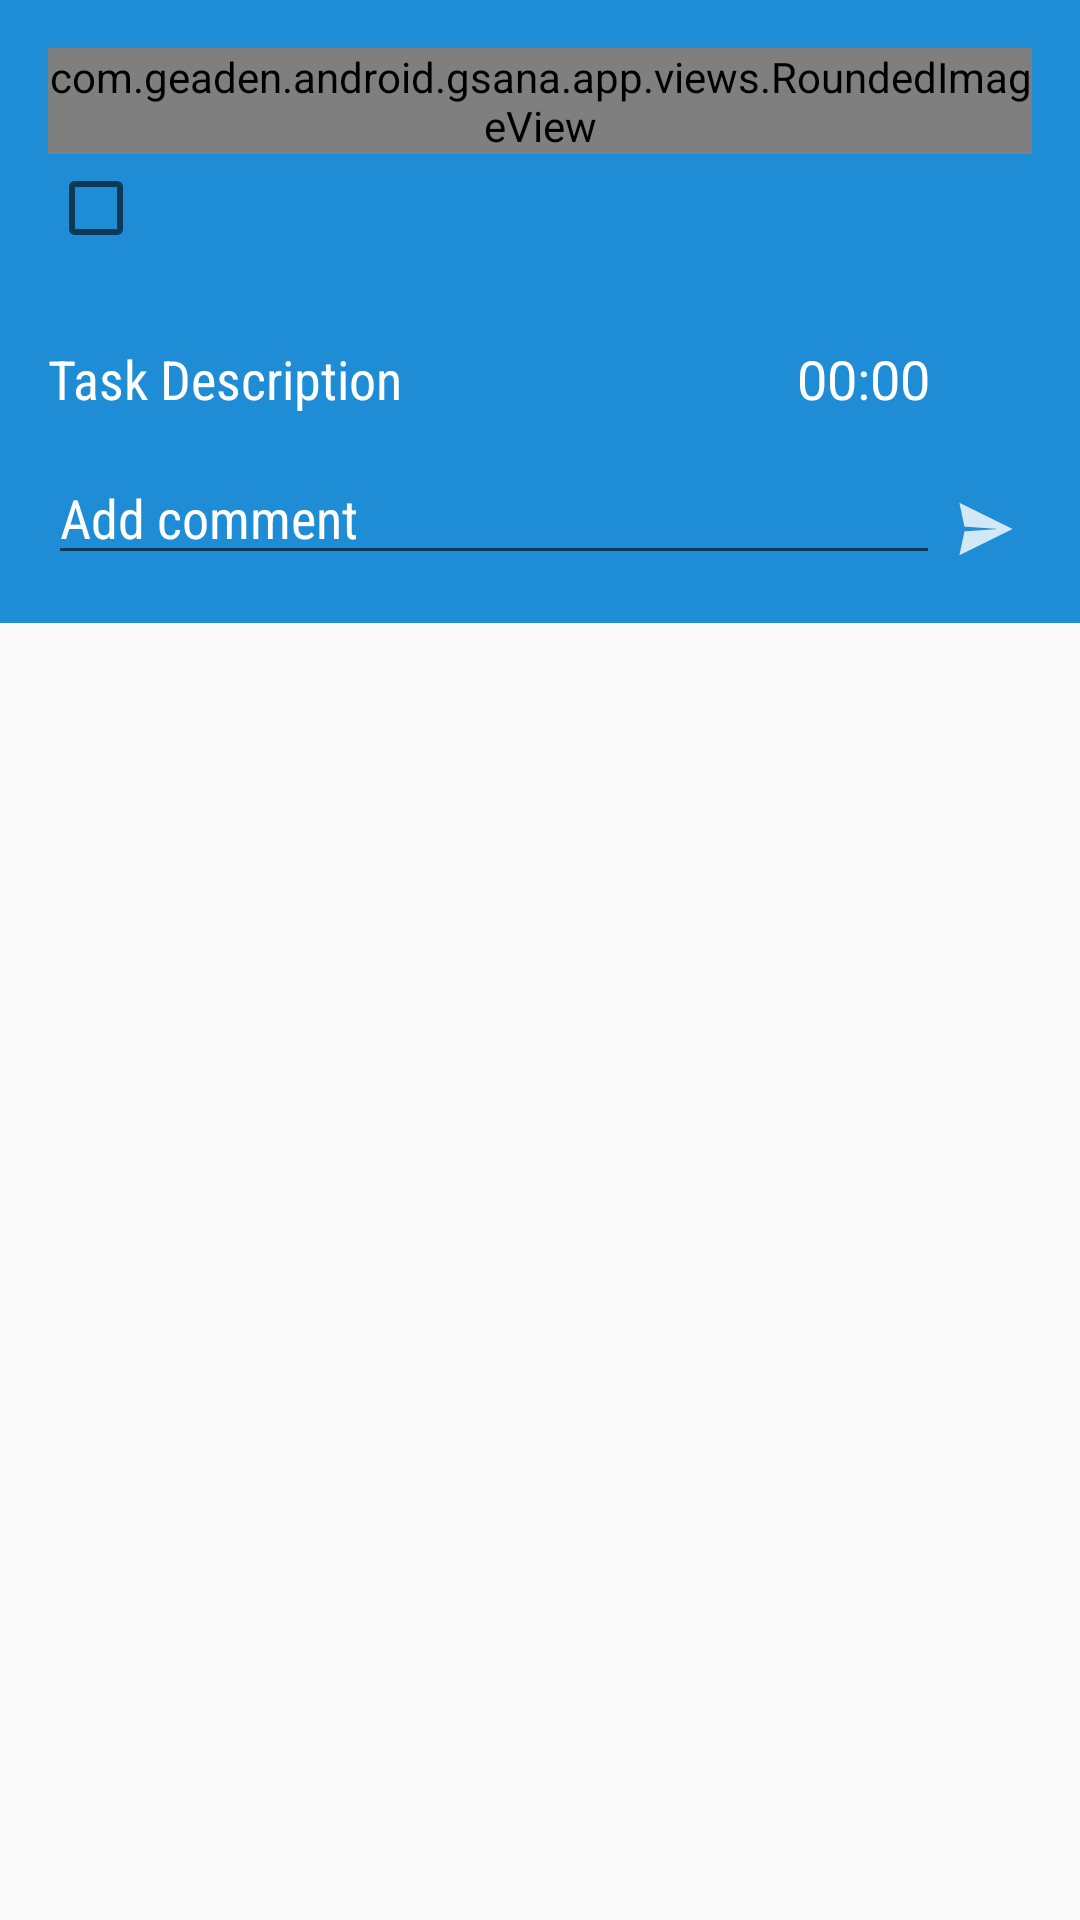

Icons on this 1080px×1920px Android screen, each with the point to tap as [x,y]:
send: [985,529]
